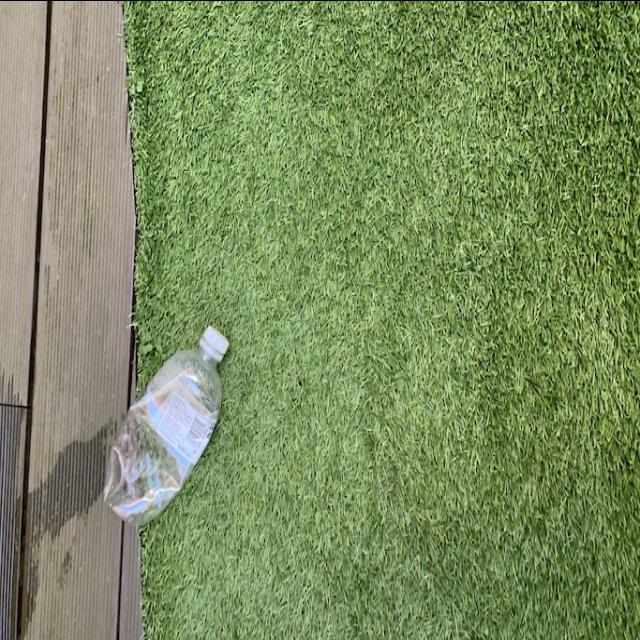PET: (106, 318, 230, 526)
